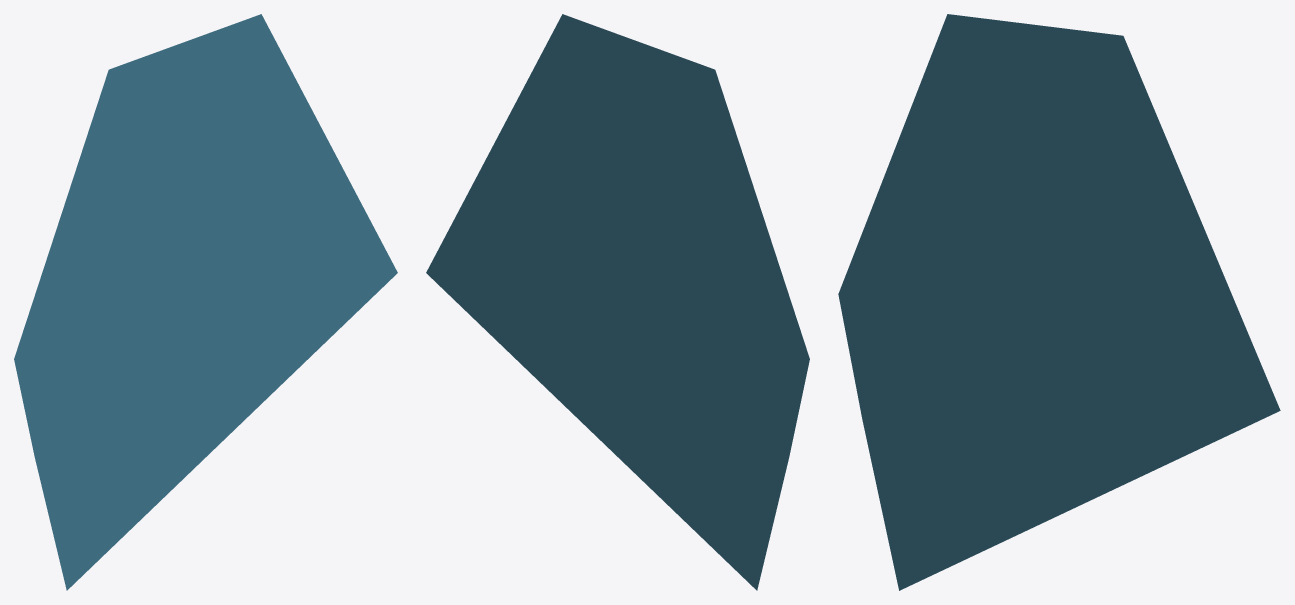
The model's file is NexusA_Cloth_5.fbx.
The picture shows the model from 3 angles, left to right: view 1: azimuth 30°, elevation 25°; view 2: azimuth 150°, elevation 25°; view 3: azimuth 330°, elevation 25°; orthographic projection. The views are drawn at different scales.
Parts seen in each view (by area): view 1: pasted__polySurface41; view 2: pasted__polySurface41; view 3: pasted__polySurface41.
Part boxes in pixels (box(x1,y1,x2,y2)): pasted__polySurface41: box(14, 14, 397, 590); pasted__polySurface41: box(426, 14, 809, 590); pasted__polySurface41: box(838, 14, 1280, 590).
Size of the model in its own units: 36.16 by 47.65 by 0.
